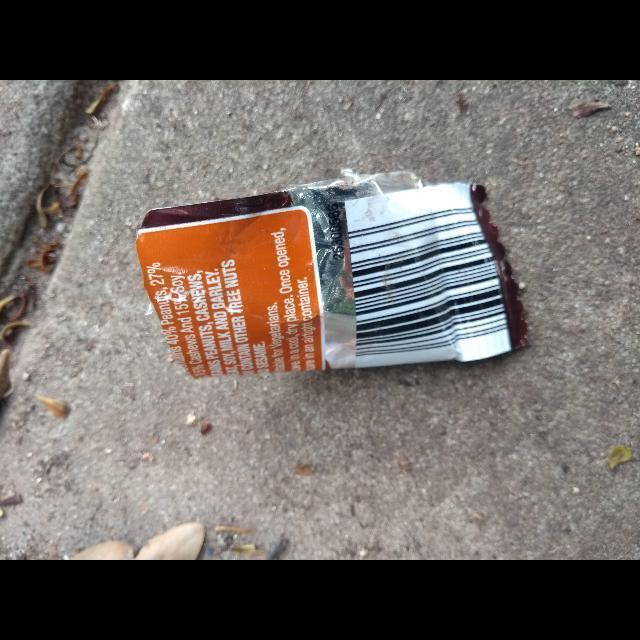Plastic: (137, 172, 529, 380)
